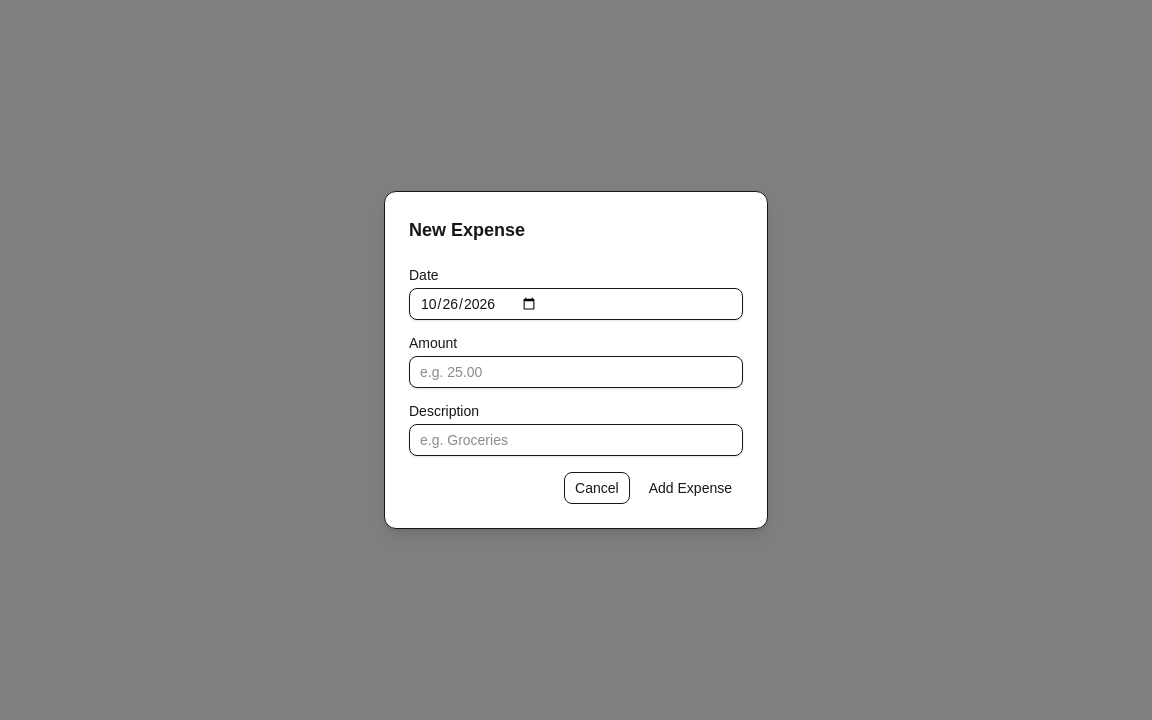
it: AddExpenseDialog — Validation: amount must be a positive number; description must be non-empty › shows amount required error when submitting with empty amount
The image size is (1152, 720).
Type "Groceries" into the field labelled "Description" at (576,440), box left=409, top=424, right=743, bottom=456
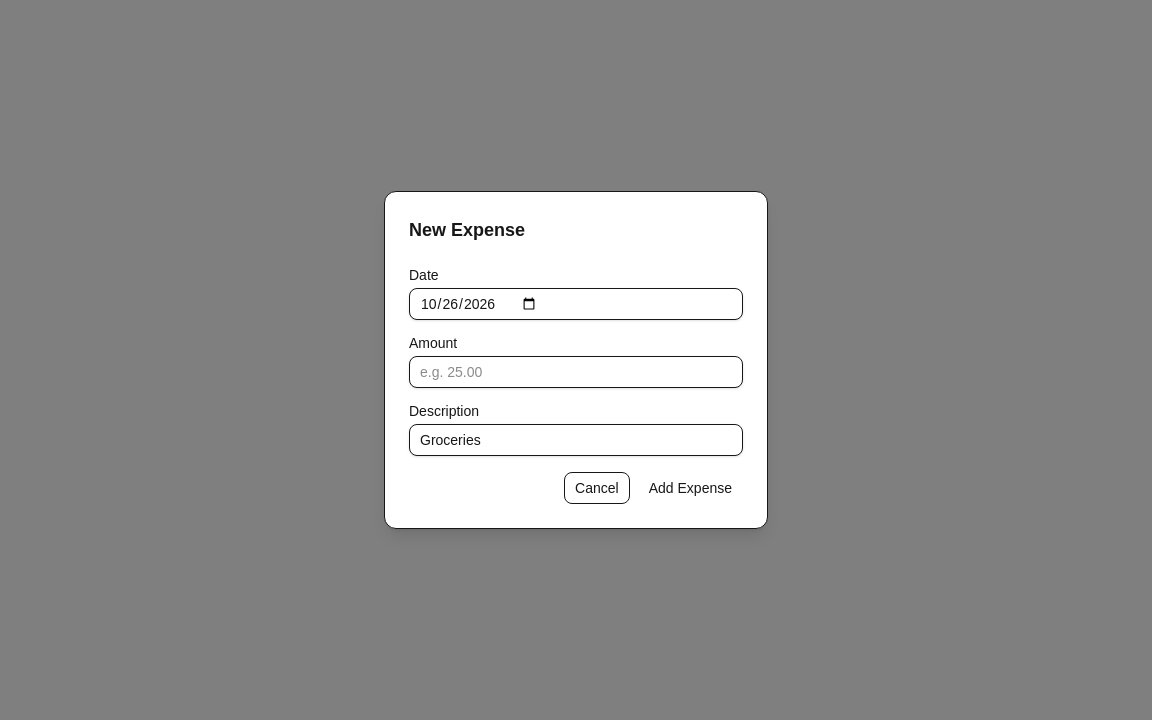
Click the button "Add Expense" at (690,488), box left=638, top=472, right=743, bottom=504
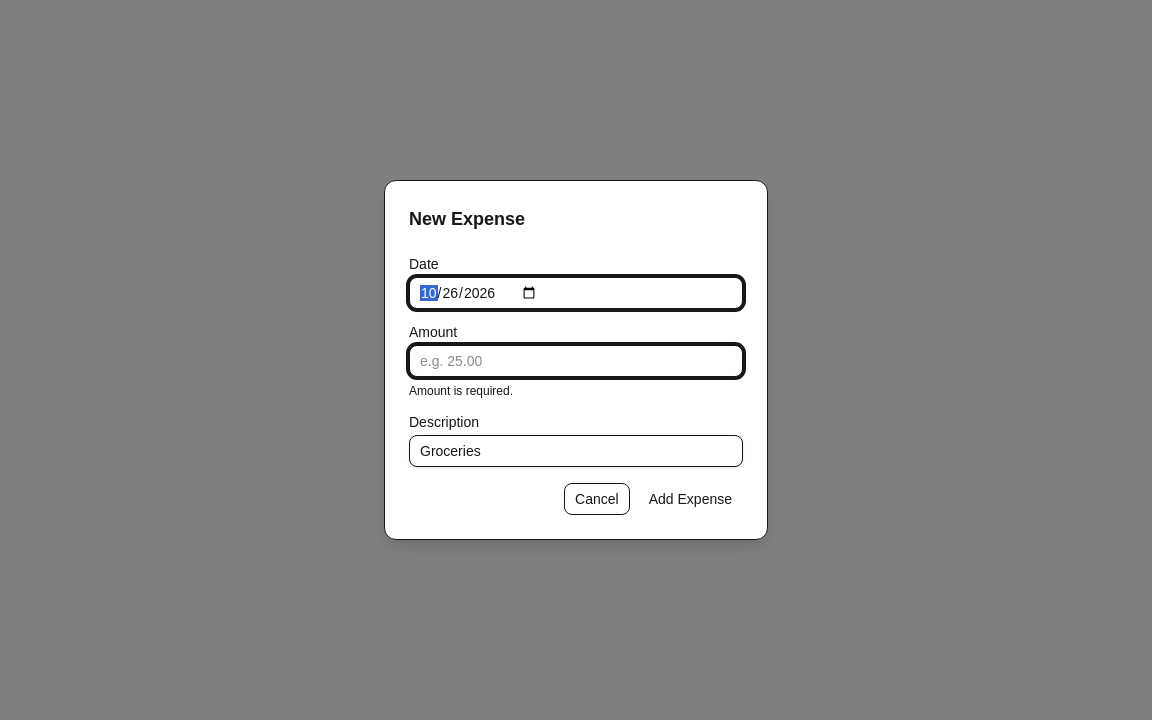
Expected: the text "Amount is required." is shown, left=409, top=384, right=513, bottom=398
